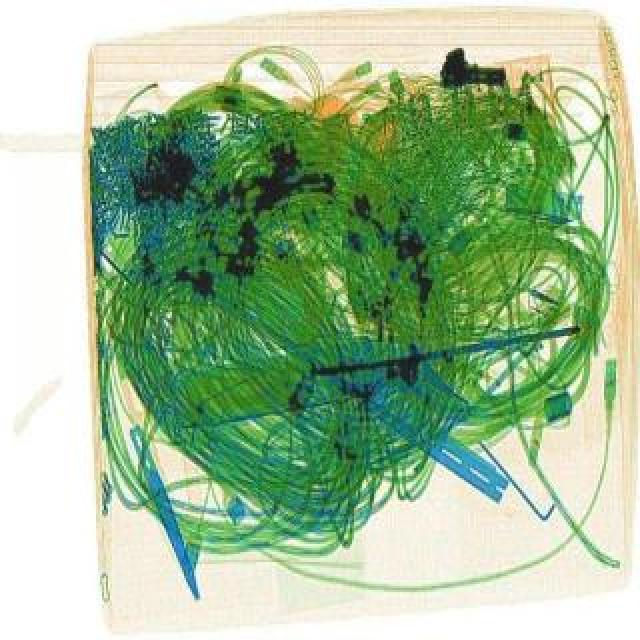gun: (440, 52, 508, 96)
